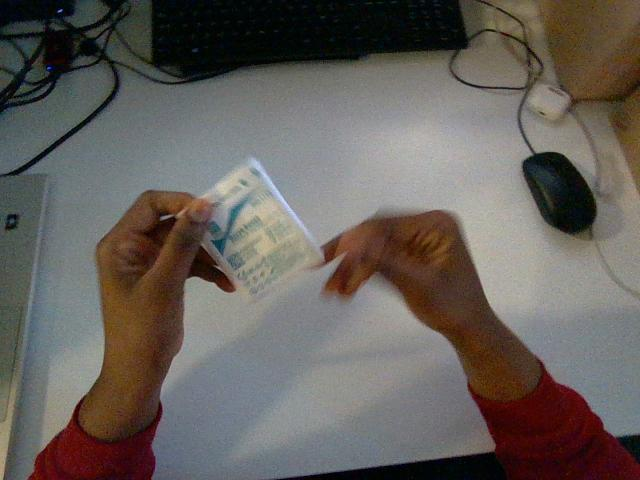gauze: (202, 158, 322, 298)
